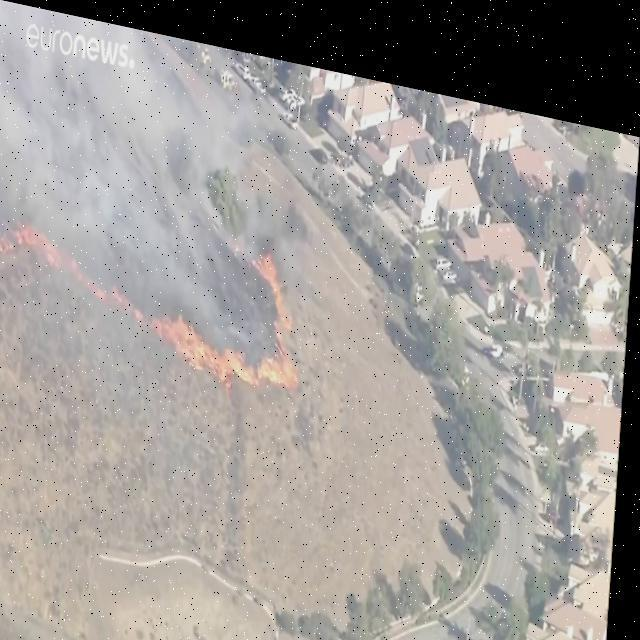Fire: (0, 216, 151, 320), (148, 303, 304, 387), (258, 232, 302, 325)
